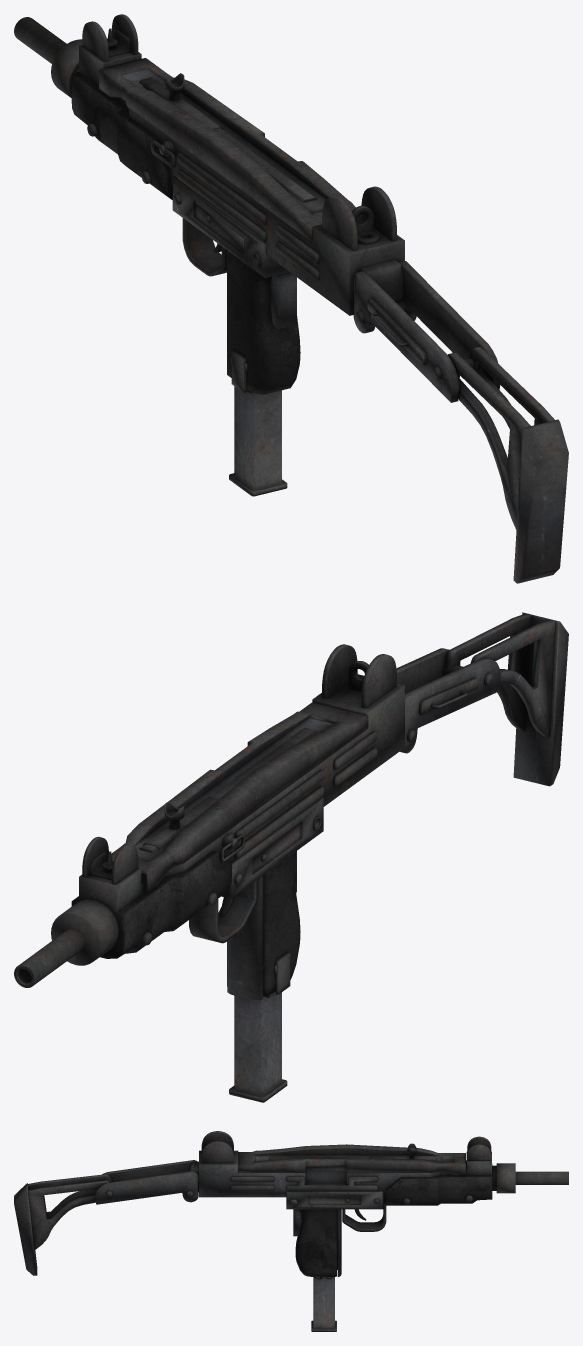
File: Uzi.glb
3 renders of one model, top to bottom at view 1: azimuth 30°, elevation 25°; view 2: azimuth 150°, elevation 25°; view 3: azimuth 270°, elevation 25°, orthographic. The views are drawn at different scales.
Parts seen in each view (by area): view 1: Uzi; view 2: Uzi; view 3: Uzi.
Part boxes in pixels (x1=…): Uzi: x1=14, y1=14, x2=568, y2=583; Uzi: x1=14, y1=612, x2=568, y2=1102; Uzi: x1=14, y1=1131, x2=568, y2=1331.
Bounding box in the file's own units: 0.0514 × 0.2496 × 0.6581.
1 material, 1 textured.
